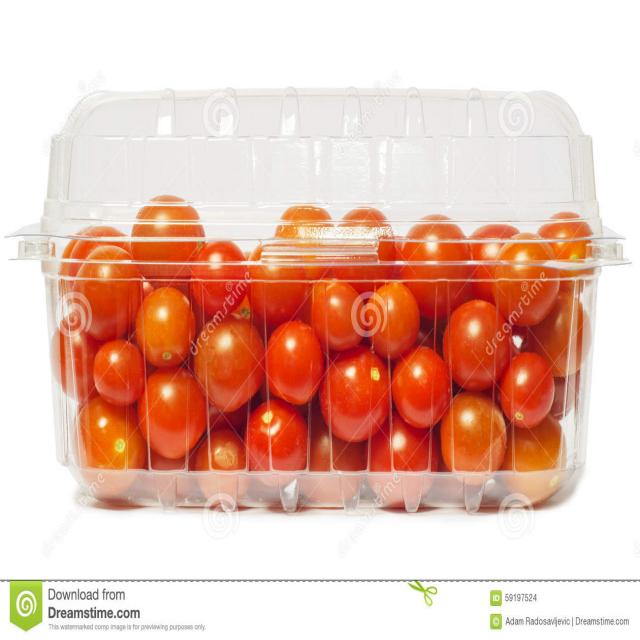tomatoes: (62, 200, 588, 486)
